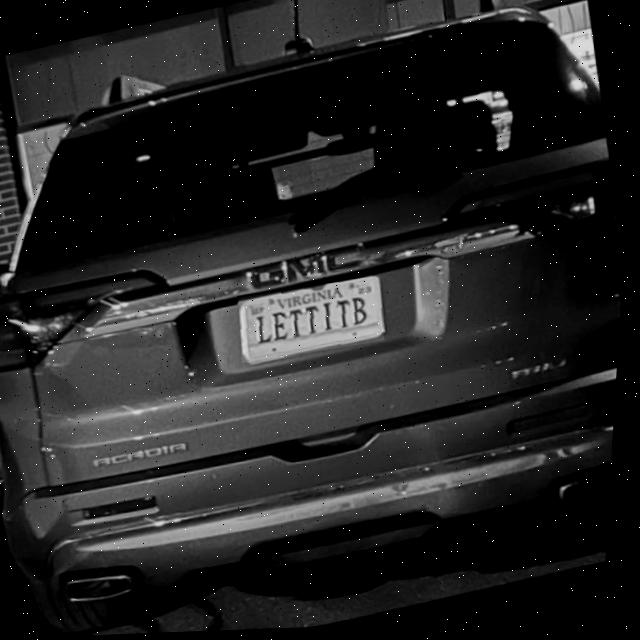LicensePlate: (242, 279, 388, 364)
